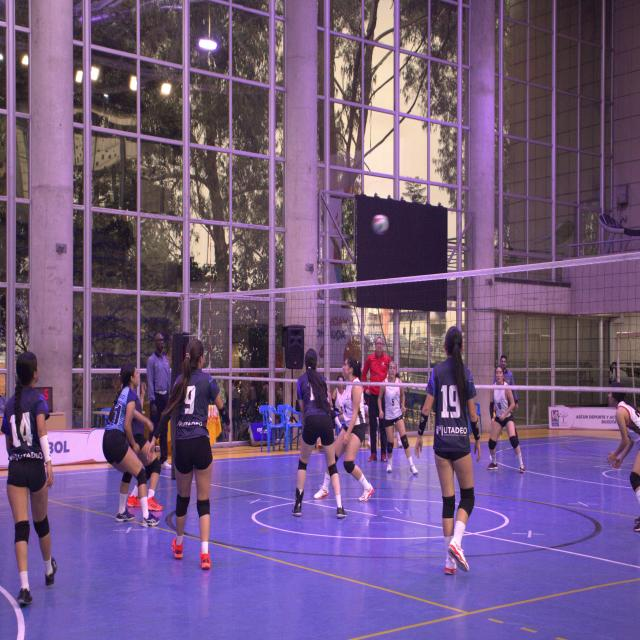volleyball: (374, 214, 389, 238)
